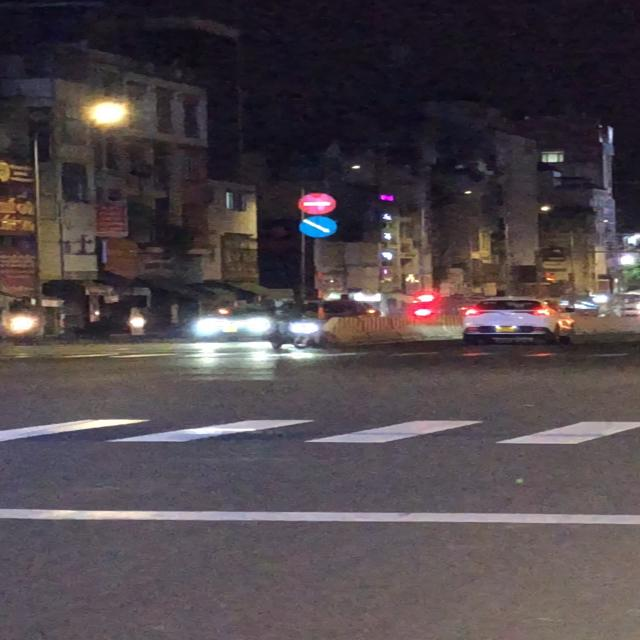Bien bao cam di nguoc chieu: (296, 192, 338, 215)
Bien bao huong phai di vong chuong ngai vat: (298, 216, 342, 239)
